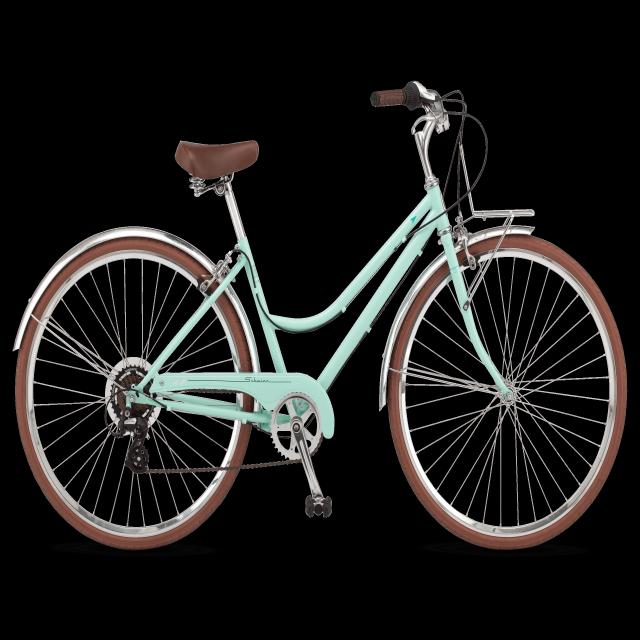bicycle: (3, 49, 633, 620)
